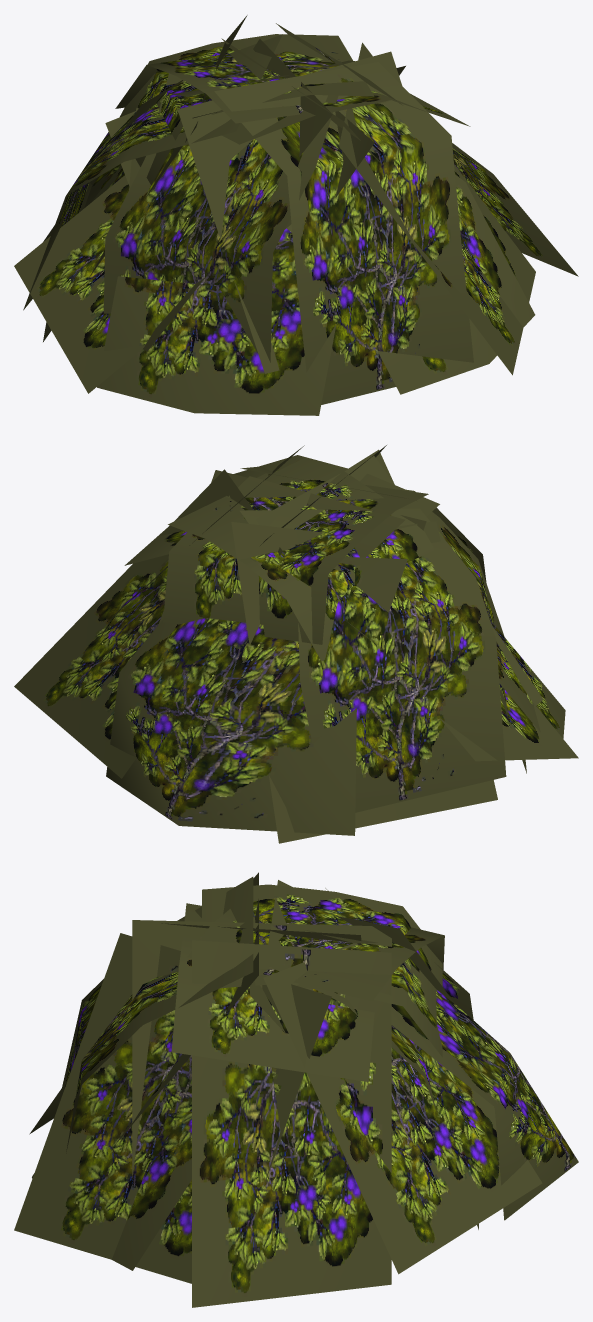
The model's file is flora_fruit_berry_03.glb.
3 renders of one model, top to bottom at view 1: azimuth 30°, elevation 25°; view 2: azimuth 150°, elevation 25°; view 3: azimuth 270°, elevation 25°, orthographic. The views are drawn at different scales.
Visible parts, largest first — view 1: flora_fruit_berry_03_part0; view 2: flora_fruit_berry_03_part0; view 3: flora_fruit_berry_03_part0.
Part boxes in pixels (x1,y1,x2,y2): flora_fruit_berry_03_part0: (14,15,578,415); flora_fruit_berry_03_part0: (14,445,578,843); flora_fruit_berry_03_part0: (14,872,578,1307).
Bounding box in the file's own units: 5.8 × 2.98 × 5.53.
Materials: 1 (1 with a texture image).
